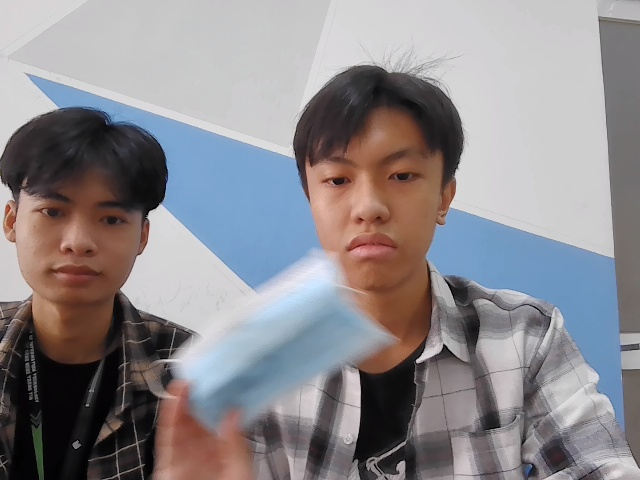human: (287, 48, 463, 294), (3, 103, 171, 319)
mask: (185, 245, 386, 432)
